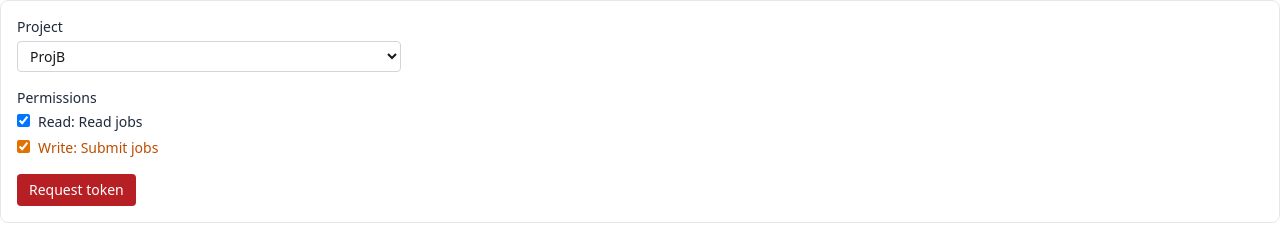
Test: PlacementTokenRequest › shows a plain message when the token request fails
Click the button "Request token": (76, 190) [17,174,136,206]
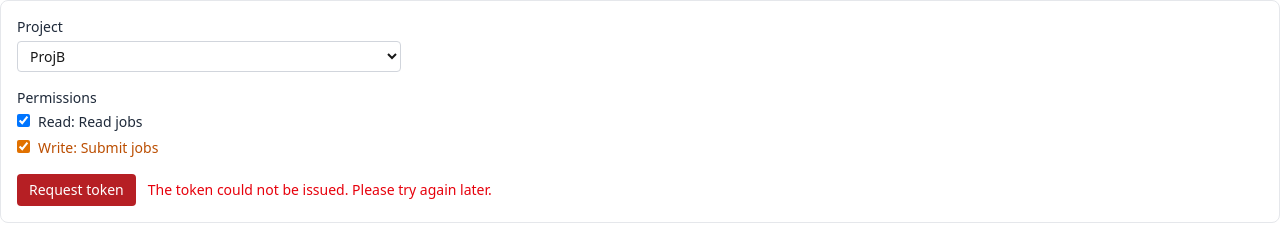
Now the text "The token could not be issued. Please try again later." is shown, box [148,180,492,200]
